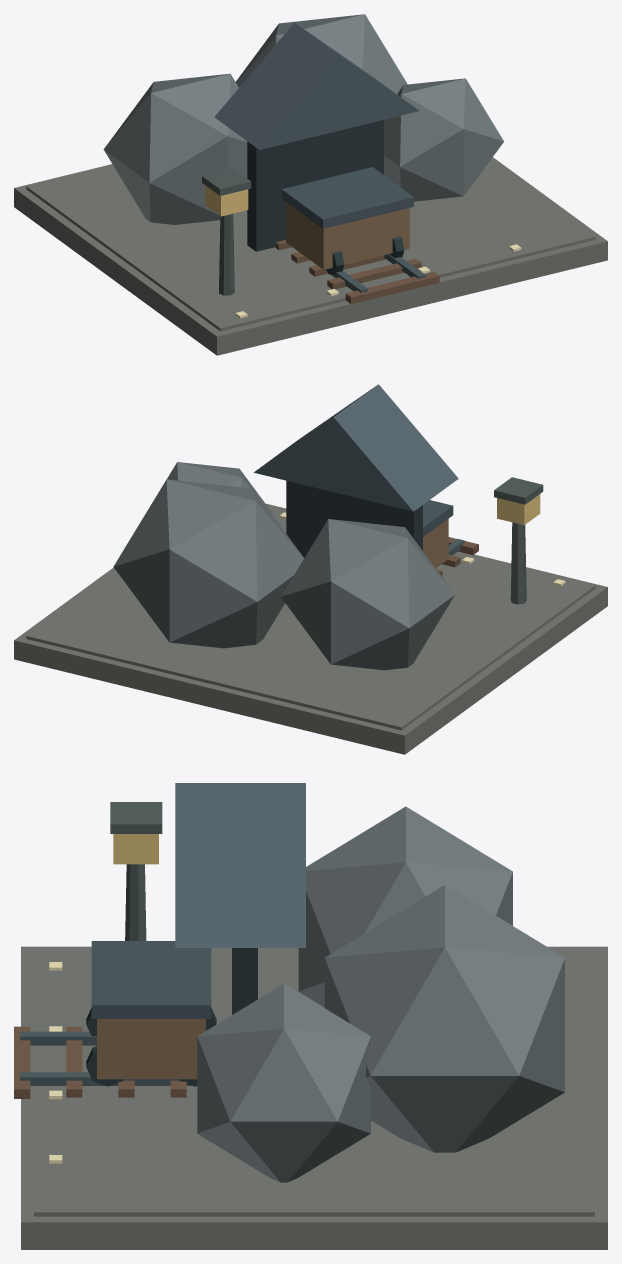
The model's file is mine-lv1.obj.
The picture shows the model from 3 angles, top to bottom: view 1: azimuth 30°, elevation 25°; view 2: azimuth 150°, elevation 25°; view 3: azimuth 270°, elevation 25°; orthographic projection. The views are drawn at different scales.
Visible parts, largest first — view 1: mine_0, mine_2, mine_4, mine_3, mine_8, mine_7, mine_6, mine_10, mine_11, mine_5, mine_9; view 2: mine_0, mine_2, mine_4, mine_3, mine_10, mine_11, mine_7, mine_8; view 3: mine_0, mine_2, mine_4, mine_8, mine_7, mine_10, mine_6, mine_5, mine_3, mine_11, mine_9.
Part boxes in pixels (x1,y1,x2,y2): mine_0: (14, 157, 607, 355); mine_2: (103, 14, 503, 224); mine_4: (214, 22, 418, 149); mine_3: (247, 120, 383, 251); mine_8: (281, 167, 413, 228); mine_7: (286, 202, 409, 269); mine_6: (275, 240, 439, 304); mine_10: (202, 168, 251, 295); mine_11: (205, 185, 248, 216); mine_5: (331, 254, 425, 292); mine_9: (298, 236, 404, 274); mine_0: (14, 503, 607, 754); mine_2: (113, 462, 454, 670); mine_4: (254, 384, 458, 511); mine_3: (286, 480, 422, 557); mine_10: (494, 477, 543, 604); mine_11: (497, 494, 540, 525); mine_7: (423, 519, 448, 567); mine_8: (423, 500, 453, 536); mine_0: (21, 946, 607, 1249); mine_2: (197, 806, 564, 1182); mine_4: (175, 783, 305, 947); mine_8: (91, 941, 211, 1018); mine_7: (97, 1019, 205, 1079); mine_10: (110, 802, 162, 940); mine_6: (14, 1026, 186, 1098); mine_5: (20, 1031, 192, 1085); mine_3: (232, 948, 257, 1014); mine_11: (113, 834, 158, 864); mine_9: (86, 1008, 216, 1086).
Size of the model in its own units: 3 by 1.6 by 2.73.
